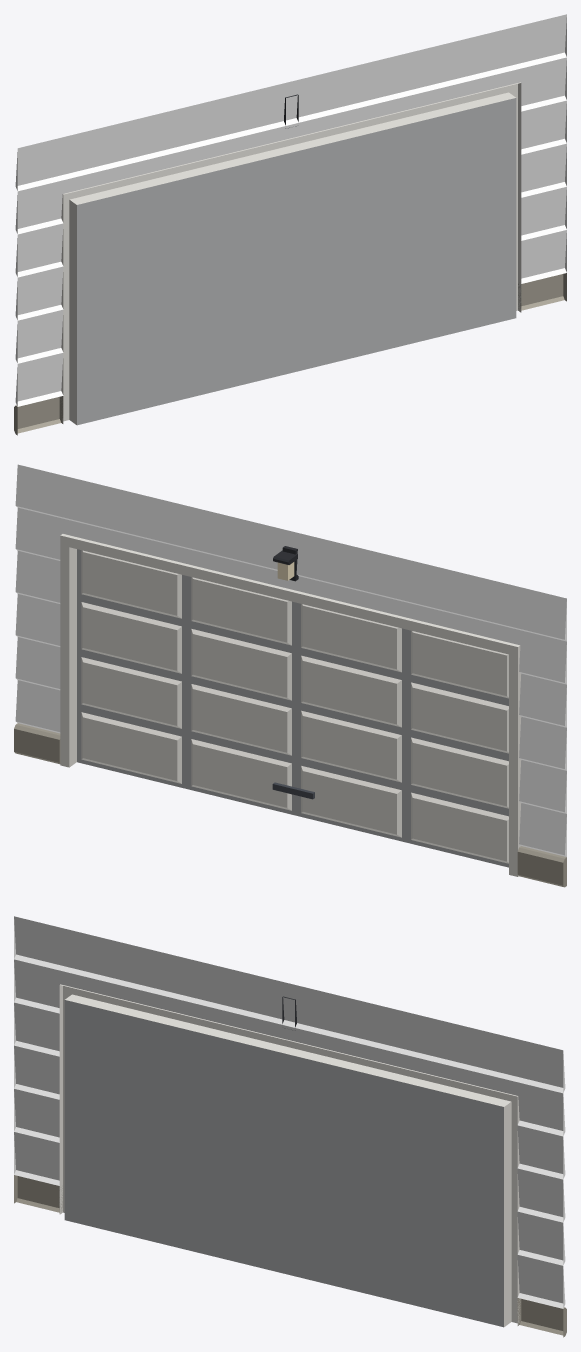
File: house_wall_garage.glb
3 renders of one model, top to bottom at view 1: azimuth 30°, elevation 25°; view 2: azimuth 150°, elevation 25°; view 3: azimuth 330°, elevation 25°, orthographic.
Visible parts, largest first — view 1: house_wall_garage__mesh; view 2: house_wall_garage__mesh; view 3: house_wall_garage__mesh.
Part boxes in pixels (x1,y1,x2,y2): house_wall_garage__mesh: (14, 14, 566, 435); house_wall_garage__mesh: (14, 464, 566, 887); house_wall_garage__mesh: (14, 916, 566, 1337).
Size of what is drawn, in the model's own units: 6 by 3 by 0.3.
Materials: 1 (1 with a texture image).
